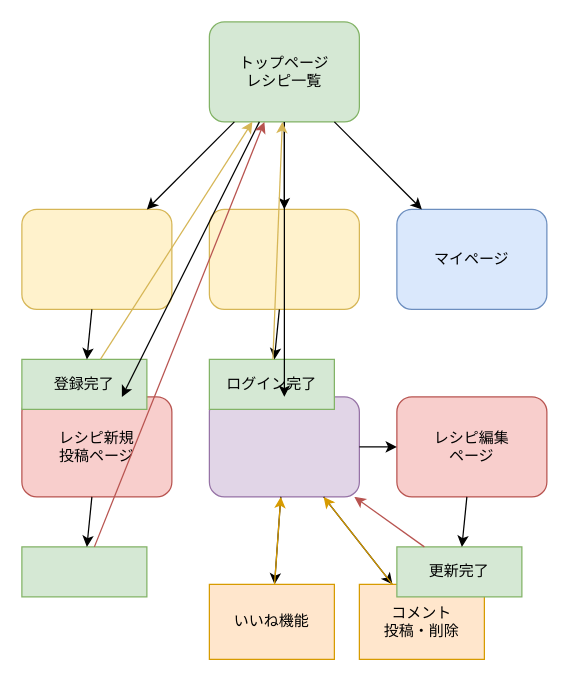
This 569x681 diagram has some shape labels left out. Here are the shapes that lost their labels. From the top down, the box of each, then its label:
(21, 208, 172, 309): 新規登録 ページ
(208, 208, 359, 309): ログイン ページ
(208, 396, 359, 497): レシピ詳細 ページ
(21, 546, 147, 597): 投稿完了
